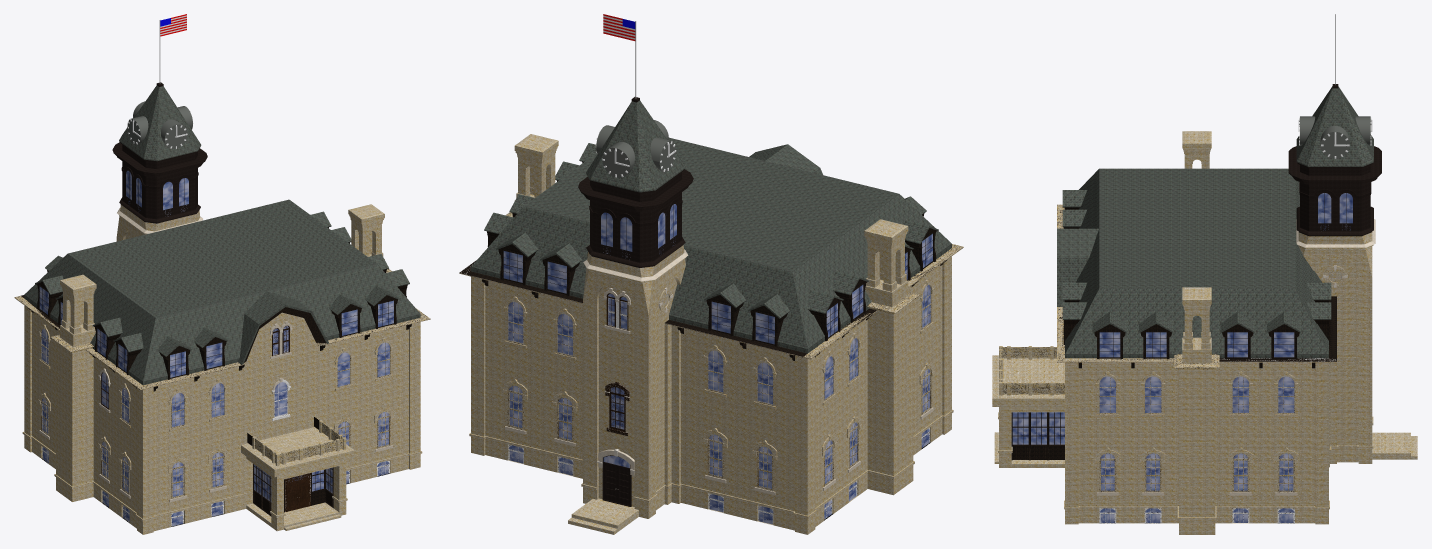
File: Willis.glb
The picture shows the model from 3 angles, left to right: view 1: azimuth 30°, elevation 25°; view 2: azimuth 150°, elevation 25°; view 3: azimuth 270°, elevation 25°; orthographic projection. The views are drawn at different scales.
Visible parts, largest first — view 1: SketchUp.016, SketchUp.062, SketchUp.063, SketchUp.066, SketchUp.233, SketchUp.368, SketchUp.168, SketchUp.181, SketchUp.029, SketchUp.030, instance_89.014, SketchUp.231 (+2 smaller); view 2: SketchUp.016, SketchUp.062, SketchUp.063, SketchUp.066, SketchUp.181, SketchUp.029, SketchUp.054, SketchUp.168, SketchUp.233, instance_89.014, SketchUp.285, SketchUp.362 (+4 smaller); view 3: SketchUp.016, SketchUp.062, SketchUp.063, SketchUp.066, SketchUp.368, SketchUp.233, SketchUp.017, SketchUp.054, SketchUp.029, SketchUp.281, SketchUp.374, SketchUp.436 (+2 smaller).
Part boxes in pixels (box(x1,y1,x2,y2)): SketchUp.016: box(22, 205, 422, 534); SketchUp.062: box(24, 199, 420, 385); SketchUp.063: box(112, 142, 207, 223); SketchUp.066: box(119, 85, 201, 161); SketchUp.233: box(238, 291, 329, 364); SketchUp.368: box(241, 427, 353, 469); SketchUp.168: box(14, 296, 246, 390); SketchUp.181: box(60, 280, 96, 328); SketchUp.029: box(348, 210, 384, 256); SketchUp.030: box(246, 502, 341, 530); instance_89.014: box(133, 101, 187, 149); SketchUp.231: box(244, 307, 326, 362); SketchUp.016: box(469, 245, 953, 534); SketchUp.062: box(471, 137, 951, 353); SketchUp.063: box(578, 169, 693, 267); SketchUp.066: box(586, 100, 685, 192); SketchUp.181: box(864, 226, 908, 291); SketchUp.029: box(514, 141, 558, 197); SketchUp.054: box(568, 498, 638, 534); SketchUp.168: box(664, 244, 963, 359); SketchUp.233: box(749, 144, 822, 174); instance_89.014: box(602, 120, 668, 177); SketchUp.285: box(665, 308, 876, 358); SketchUp.362: box(667, 324, 671, 485); SketchUp.016: box(992, 232, 1373, 534); SketchUp.062: box(1065, 168, 1328, 358); SketchUp.063: box(1288, 146, 1381, 236); SketchUp.066: box(1296, 86, 1373, 166); SketchUp.368: box(992, 355, 1064, 398); SketchUp.233: box(1057, 228, 1098, 306); SketchUp.017: box(1057, 307, 1336, 369); SketchUp.054: box(1372, 432, 1417, 459); SketchUp.029: box(1182, 300, 1211, 349); SketchUp.281: box(1219, 296, 1336, 361); SketchUp.374: box(999, 407, 1064, 450); SketchUp.436: box(1320, 126, 1349, 158).
Bounding box in the file's own units: 27.8 × 32.16 × 28.5.
24 materials, 16 textured.
